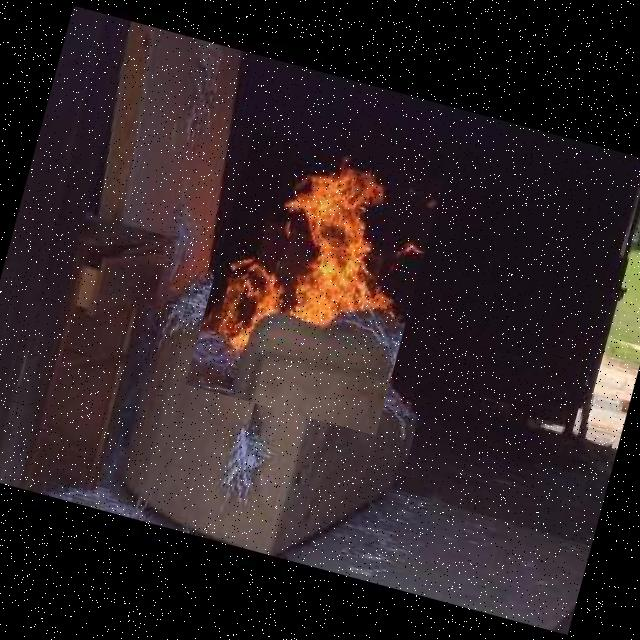fire: (185, 130, 443, 435)
